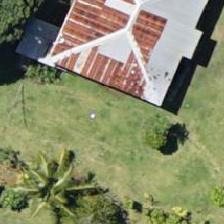coconut_tree: (12, 143, 102, 223)
